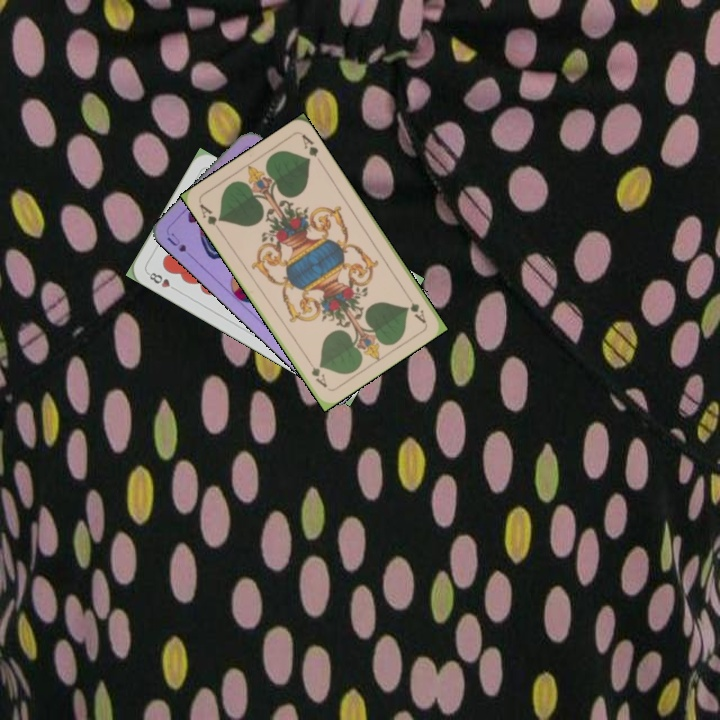GA: (401, 289, 429, 326), (195, 200, 224, 235)
H8: (143, 268, 180, 294)
SU: (163, 229, 198, 263)
